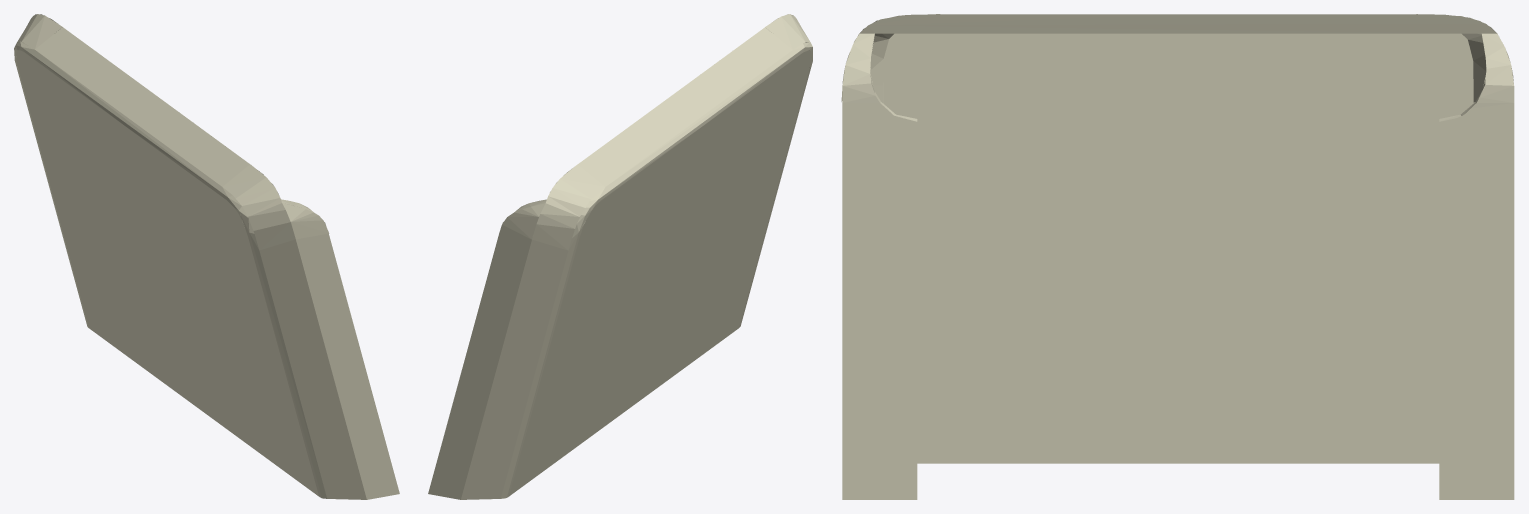
File: tablet_base.dae
3 views of the same model, side by side, from view 1: azimuth 30°, elevation 25°; view 2: azimuth 150°, elevation 25°; view 3: azimuth 270°, elevation 25° (orthographic). The views are drawn at different scales.
Parts seen in each view (by area): view 1: Tablet_Base; view 2: Tablet_Base; view 3: Tablet_Base.
Part boxes in pixels (x1,y1,x2,y2): Tablet_Base: [14, 14, 399, 499]; Tablet_Base: [428, 14, 812, 499]; Tablet_Base: [841, 14, 1514, 499].
Size of the model in its own units: 0.0619 by 0.1999 by 0.1368.
Materials: 1 (1 with a texture image).
